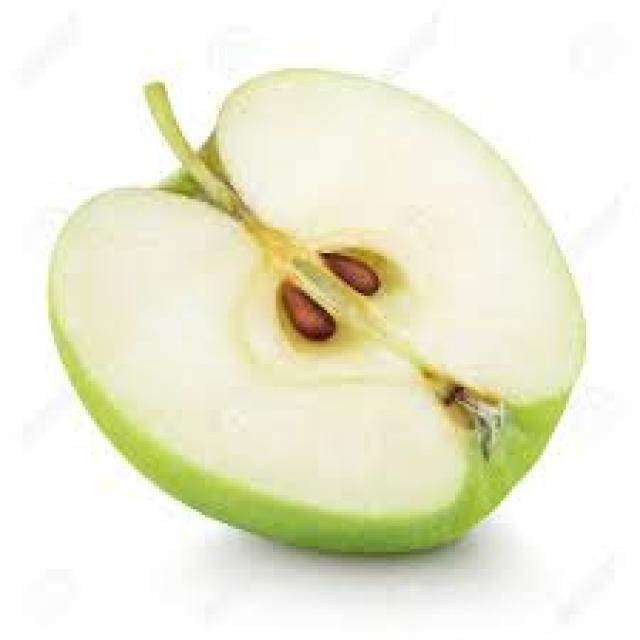Apple: (45, 68, 586, 561)
